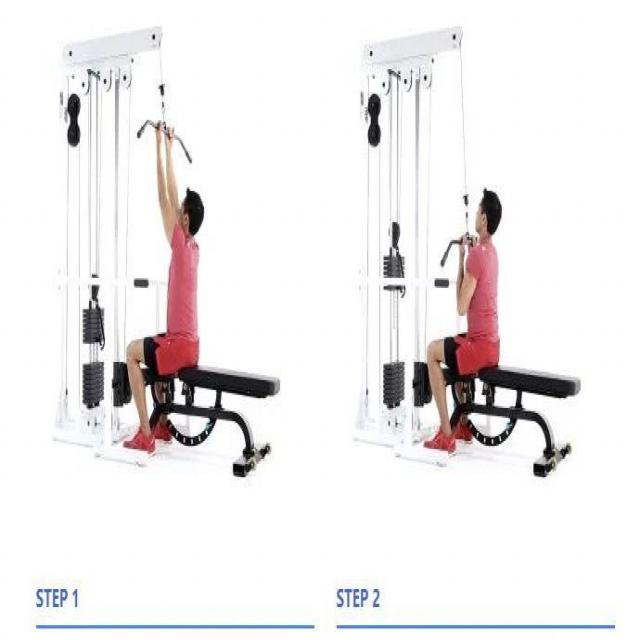Lat Machine: (39, 18, 288, 484), (348, 17, 587, 477)
